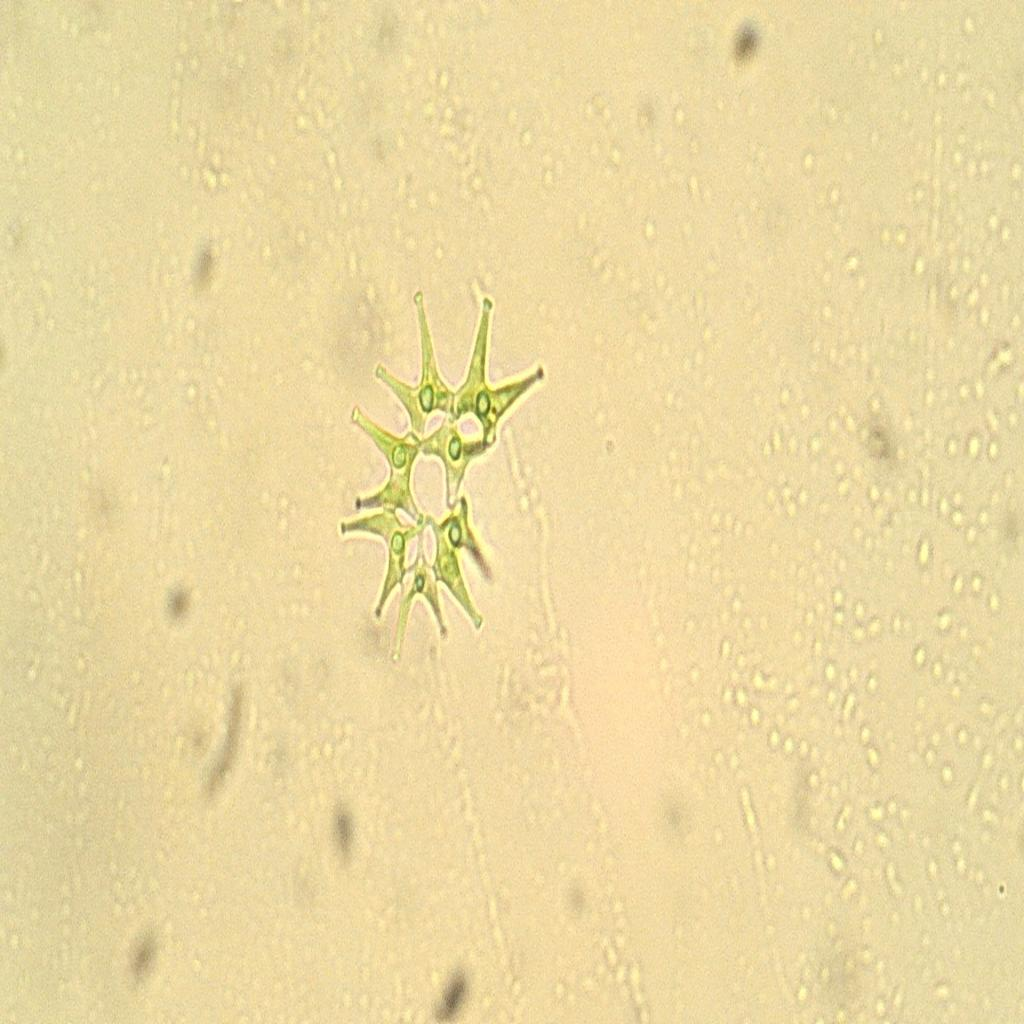Pediastrum_CFI: (331, 238, 550, 668)
